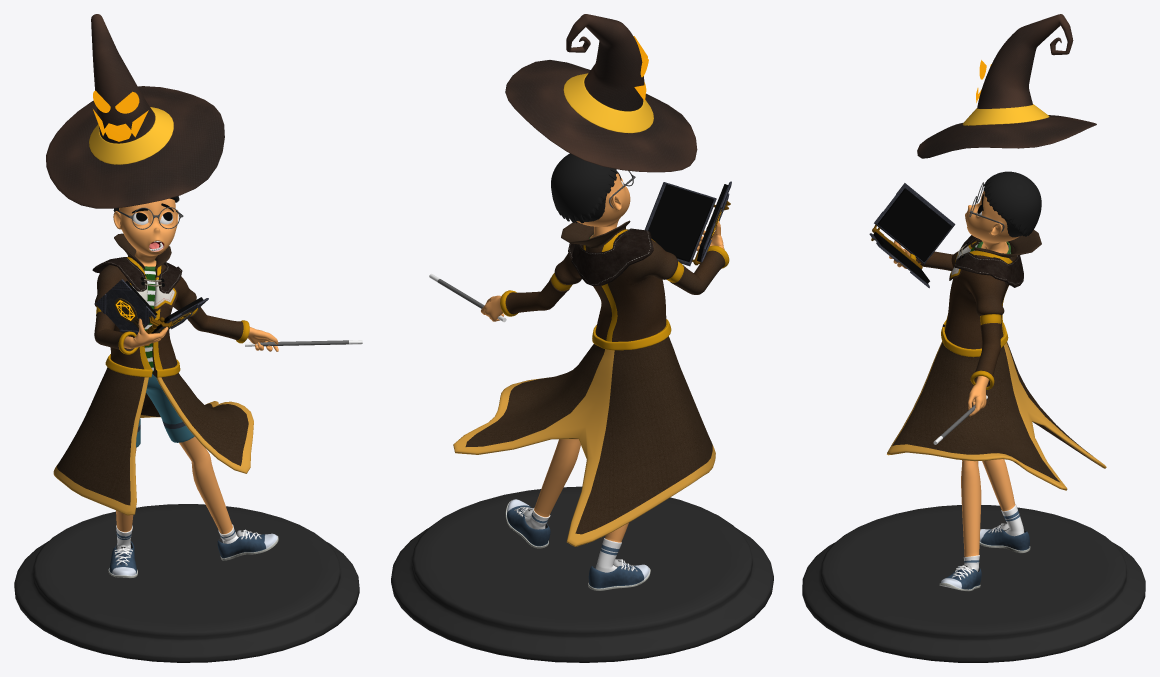
The picture shows the model from 3 angles, left to right: view 1: azimuth 30°, elevation 25°; view 2: azimuth 150°, elevation 25°; view 3: azimuth 270°, elevation 25°; orthographic projection. The views are drawn at different scales.
Visible parts, largest first — view 1: pCylinder1, Evil_Hat:hattty_mesh, lower_coat_mesh_FK, Upper_coat_mesh, Vanilla_head_mesh, L_leg_mesh, pants_mesh, Chest_piece_mesh, L_shoe_mesh, hands_mesh, Book:polySurface1, Evil_Hat:pPlane1 (+5 smaller); view 2: pCylinder1, lower_coat_mesh_FK, Evil_Hat:hattty_mesh, Upper_coat_mesh, outer_hair_mesh, Book:polySurface6, Chest_piece_mesh, L_leg_mesh, R_shoe_mesh, Vanilla_head_mesh, L_shoe_mesh, Coat_collar_mesh (+2 smaller); view 3: pCylinder1, lower_coat_mesh_FK, Evil_Hat:hattty_mesh, Upper_coat_mesh, Book:polySurface8, outer_hair_mesh, L_leg_mesh, Vanilla_head_mesh, Chest_piece_mesh, R_leg_mesh, R_shoe_mesh, Coat_collar_mesh (+3 smaller).
Part boxes in pixels (<box>): pCylinder1: <box>14,504,359,662</box>; Evil_Hat:hattty_mesh: <box>46,14,224,208</box>; lower_coat_mesh_FK: <box>53,367,253,515</box>; Upper_coat_mesh: <box>94,257,249,377</box>; Vanilla_head_mesh: <box>113,198,178,266</box>; L_leg_mesh: <box>179,436,238,543</box>; pants_mesh: <box>136,374,194,447</box>; Chest_piece_mesh: <box>92,257,182,293</box>; L_shoe_mesh: <box>217,532,278,560</box>; hands_mesh: <box>123,318,278,351</box>; Book:polySurface1: <box>106,280,155,330</box>; Evil_Hat:pPlane1: <box>93,109,148,141</box>; pCylinder1: <box>391,486,773,662</box>; lower_coat_mesh_FK: <box>453,336,715,546</box>; Evil_Hat:hattty_mesh: <box>505,14,697,172</box>; Upper_coat_mesh: <box>500,229,729,350</box>; outer_hair_mesh: <box>551,153,617,223</box>; Book:polySurface6: <box>648,184,713,261</box>; Chest_piece_mesh: <box>568,228,653,286</box>; L_leg_mesh: <box>524,439,580,529</box>; R_shoe_mesh: <box>588,564,650,590</box>; Vanilla_head_mesh: <box>576,173,630,238</box>; L_shoe_mesh: <box>505,499,550,548</box>; Coat_collar_mesh: <box>561,220,630,247</box>; pCylinder1: <box>802,505,1145,662</box>; lower_coat_mesh_FK: <box>887,341,1106,490</box>; Evil_Hat:hattty_mesh: <box>917,14,1096,158</box>; Upper_coat_mesh: <box>910,239,1017,389</box>; Book:polySurface8: <box>878,188,951,262</box>; outer_hair_mesh: <box>983,171,1041,236</box>; L_leg_mesh: <box>961,460,981,571</box>; Vanilla_head_mesh: <box>965,191,1019,253</box>; Chest_piece_mesh: <box>954,235,1023,287</box>; R_leg_mesh: <box>982,459,1024,536</box>; R_shoe_mesh: <box>979,528,1030,553</box>; Coat_collar_mesh: <box>974,230,1041,257</box>.
Bounding box in the file's own units: 851 × 1478 × 830.
Materials: 36 (15 with a texture image).
